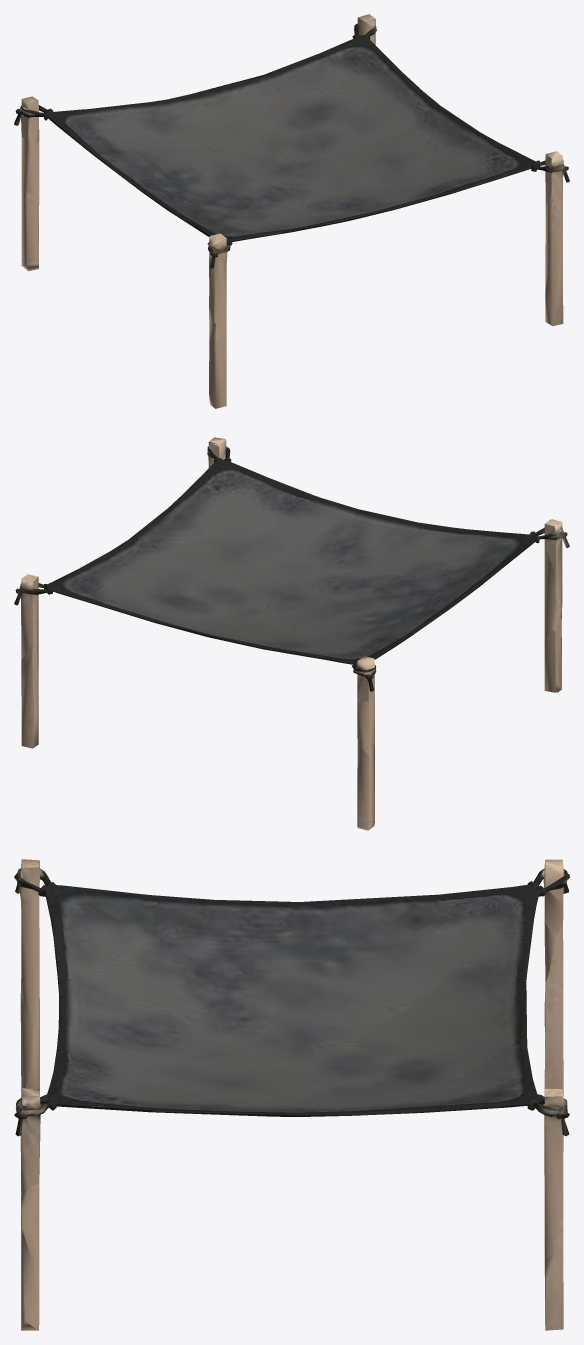
Rendered from paranet_lod2.glb.
The picture shows the model from 3 angles, top to bottom: view 1: azimuth 30°, elevation 25°; view 2: azimuth 150°, elevation 25°; view 3: azimuth 270°, elevation 25°; orthographic projection. The views are drawn at different scales.
Parts seen in each view (by area): view 1: tripo_node_de4cfaa4-1710-44a4-973d-dfee8c646236; view 2: tripo_node_de4cfaa4-1710-44a4-973d-dfee8c646236; view 3: tripo_node_de4cfaa4-1710-44a4-973d-dfee8c646236.
Part boxes in pixels (box(x1,y1,x2,y2)): tripo_node_de4cfaa4-1710-44a4-973d-dfee8c646236: box(14, 14, 569, 408); tripo_node_de4cfaa4-1710-44a4-973d-dfee8c646236: box(14, 437, 569, 830); tripo_node_de4cfaa4-1710-44a4-973d-dfee8c646236: box(14, 859, 569, 1330).
Size of the model in its own units: 1 by 0.4481 by 0.9587.
1 material, 1 textured.
